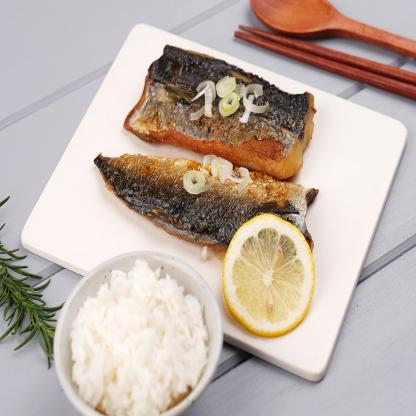Peixe: (124, 47, 336, 171), (78, 156, 354, 251)
